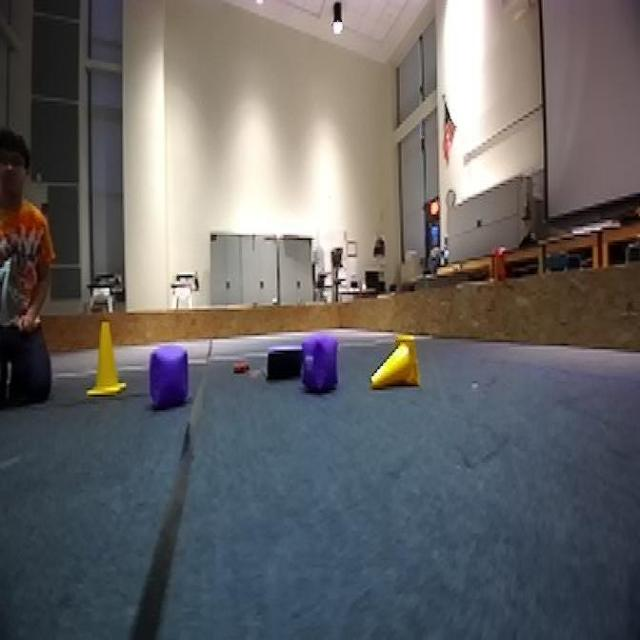frc_cone: (368, 328, 423, 398), (86, 312, 130, 398)
frc_cube: (148, 335, 190, 417), (300, 334, 340, 396)
